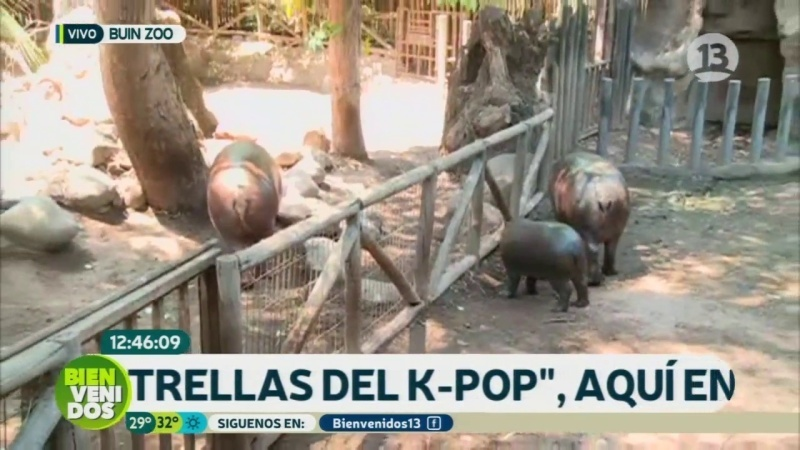hipopotamo: (543, 145, 636, 282), (492, 212, 598, 323), (194, 132, 290, 253)
